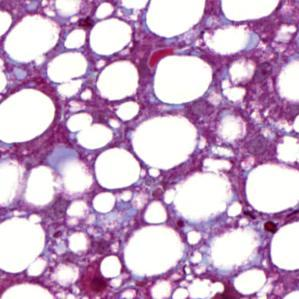steatosis: (150, 52, 218, 106), (90, 146, 143, 190)
